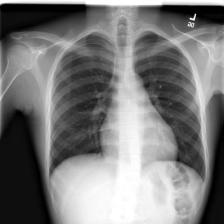normal: (41, 28, 209, 198)
